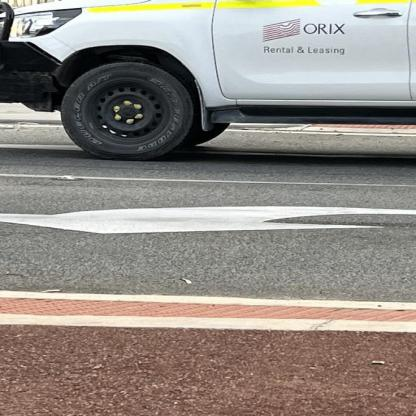Tire: (60, 61, 195, 160)
